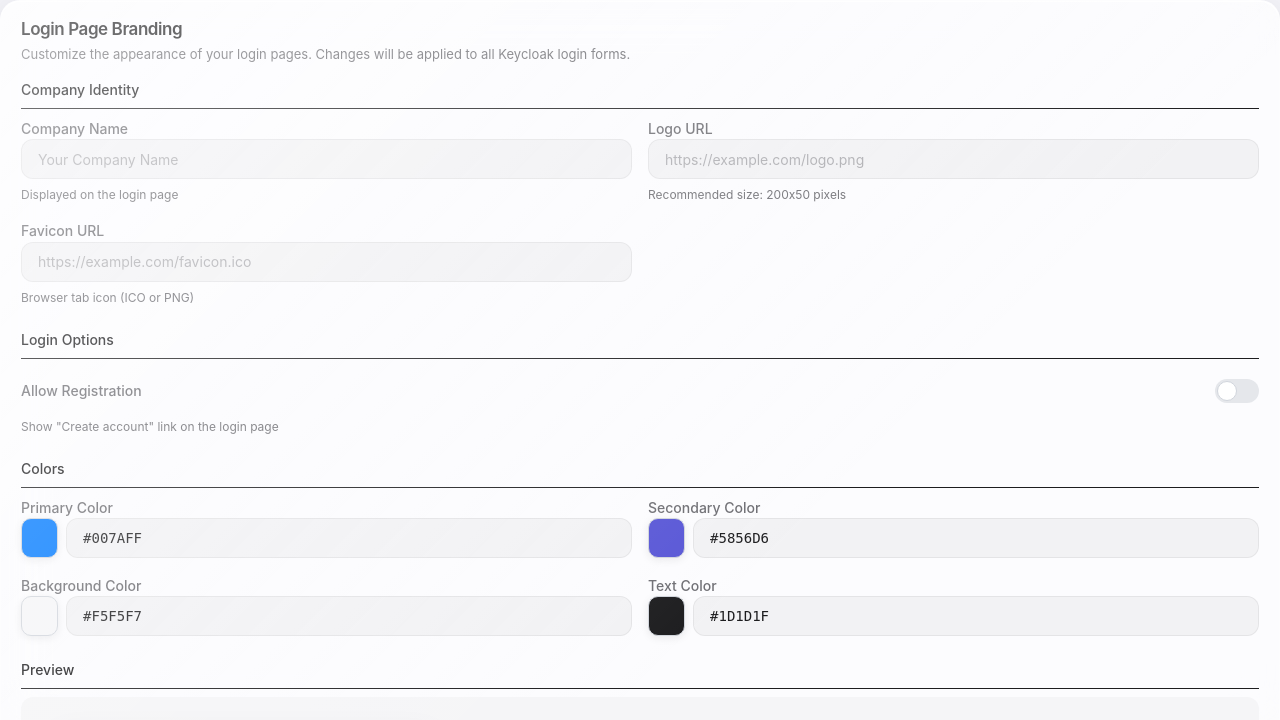
it: Branding Settings Page › updates color via color picker input
Check: the field labelled "Primary Color" is shown, box x1=66 y1=518 x2=632 y2=558
# Simulate changing the color via the color picker
Type "#AA0000" into the colour field named "Choose Primary Color".
click(40, 538); type("#AA0000")  # box x1=21 y1=518 x2=58 y2=558
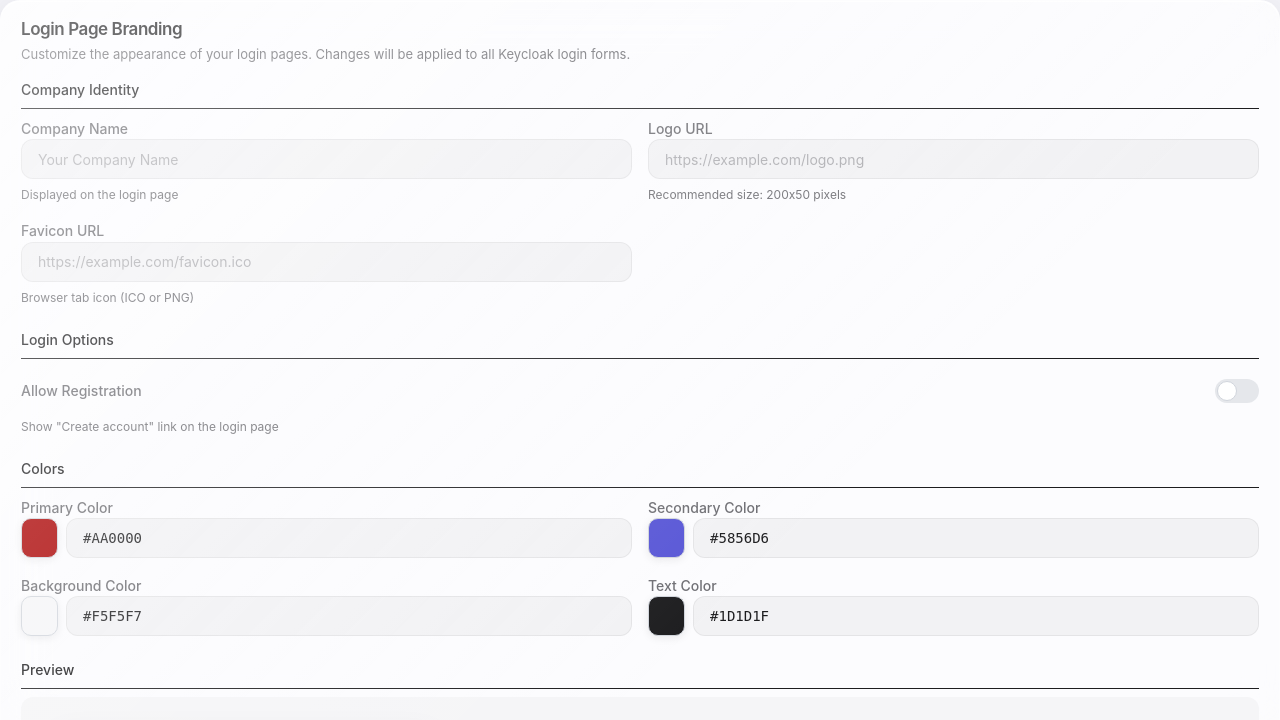
Check: the field labelled "Primary Color" holds "#aa0000", box x1=66 y1=518 x2=632 y2=558
